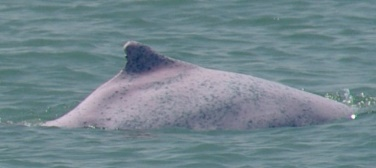fin: (38, 34, 358, 141)
